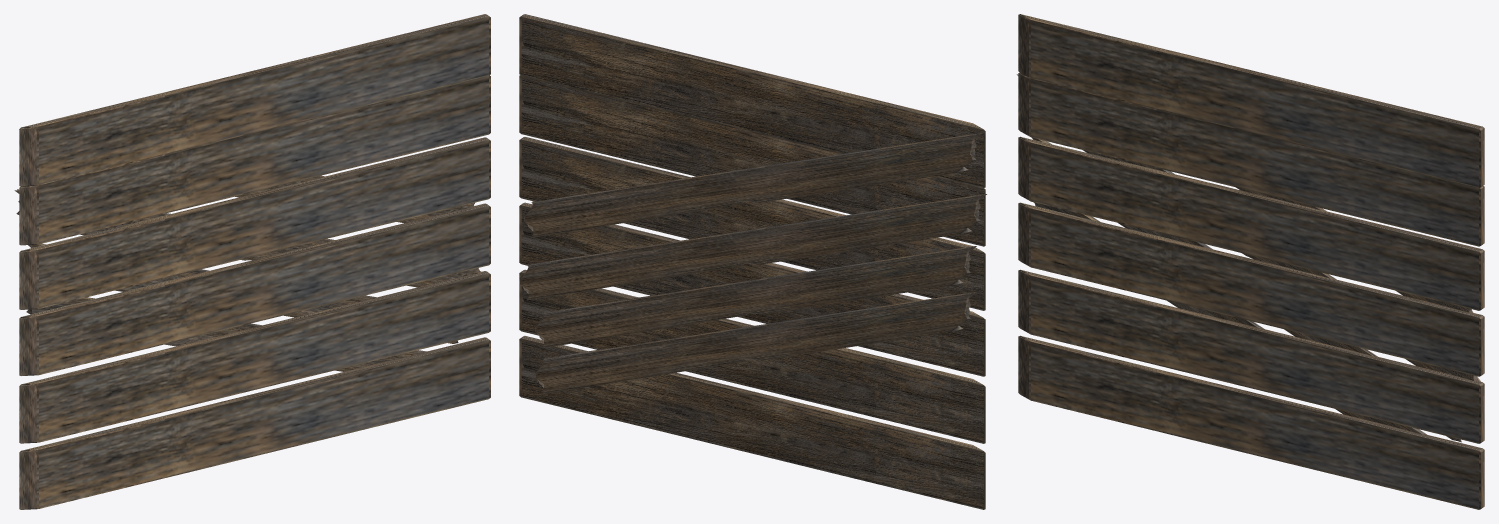
File: woods2.fbx
3 renders of one model, left to right at view 1: azimuth 30°, elevation 25°; view 2: azimuth 150°, elevation 25°; view 3: azimuth 330°, elevation 25°, orthographic.
Visible parts, largest first — view 1: plank_01.003, plank_01.006, plank_01.005, plank_01.004, plank_01.002, plank_01.001, plank_03.008, plank_03.006, plank_03.007, plank_03.005; view 2: plank_01.002, plank_01.006, plank_01.001, plank_01.005, plank_03.006, plank_03.005, plank_03.008, plank_03.007, plank_01.003, plank_01.004; view 3: plank_01.003, plank_01.006, plank_01.004, plank_01.005, plank_01.002, plank_01.001, plank_03.008, plank_03.006, plank_03.007, plank_03.005.
Boxes of the visible parts, x1,y1,x2,y2 form: plank_01.003: (19, 137, 490, 309); plank_01.006: (19, 337, 490, 509); plank_01.005: (19, 271, 490, 443); plank_01.004: (19, 203, 490, 375); plank_01.002: (19, 14, 490, 186); plank_01.001: (19, 75, 490, 245); plank_03.008: (26, 297, 426, 371); plank_03.006: (14, 189, 480, 287); plank_03.007: (28, 244, 458, 343); plank_03.005: (235, 175, 474, 223); plank_01.002: (519, 14, 985, 187); plank_01.006: (519, 336, 985, 509); plank_01.001: (519, 75, 985, 246); plank_01.005: (519, 269, 985, 443); plank_03.006: (519, 194, 986, 300); plank_03.005: (524, 133, 982, 237); plank_03.008: (535, 292, 976, 394); plank_03.007: (535, 246, 976, 348); plank_01.003: (519, 137, 985, 310); plank_01.004: (519, 202, 985, 376); plank_01.003: (1018, 136, 1484, 310); plank_01.006: (1018, 335, 1484, 509); plank_01.004: (1018, 202, 1484, 376); plank_01.005: (1018, 269, 1484, 443); plank_01.002: (1018, 14, 1484, 187); plank_01.001: (1018, 72, 1484, 246); plank_03.008: (1034, 202, 1426, 434); plank_03.006: (1016, 74, 1480, 381); plank_03.007: (1032, 137, 1461, 442); plank_03.005: (1236, 187, 1473, 312).
Bounding box in the file's own units: 389 × 302 × 11.89.
1 material, 1 textured.
